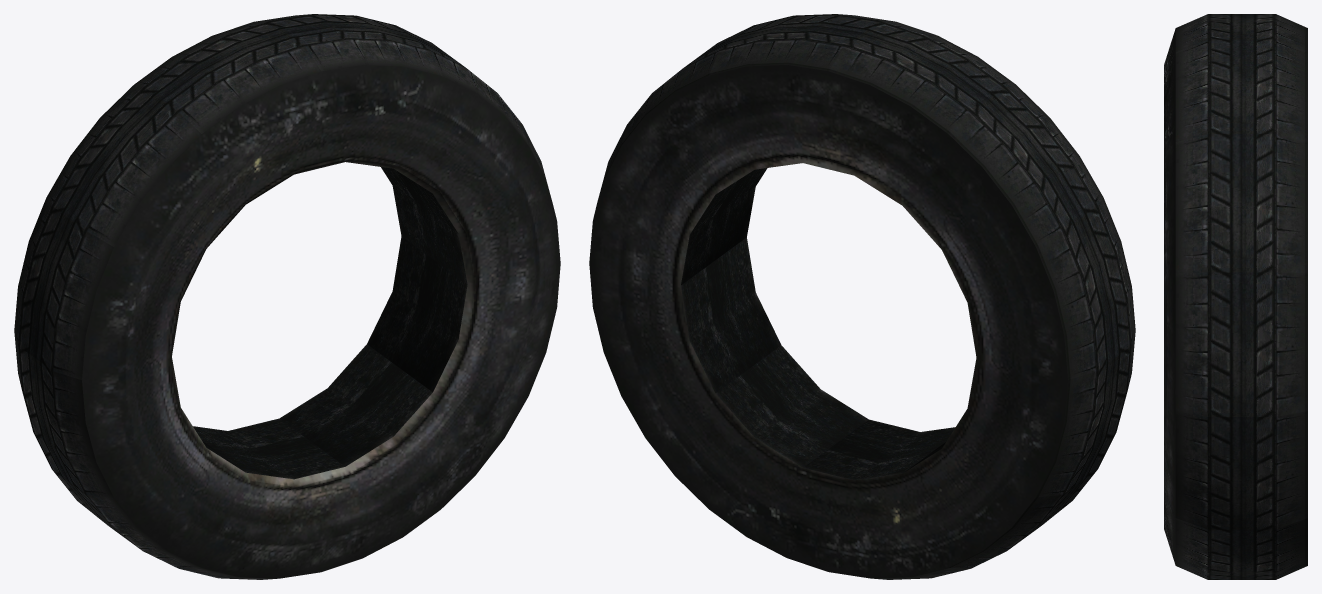
The model's file is Roue6.obj.
The picture shows the model from 3 angles, left to right: view 1: azimuth 30°, elevation 25°; view 2: azimuth 150°, elevation 25°; view 3: azimuth 270°, elevation 25°; orthographic projection. The views are drawn at different scales.
Parts seen in each view (by area): view 1: Roue6; view 2: Roue6; view 3: Roue6.
Part boxes in pixels (x1,y1,x2,y2): Roue6: (14, 14, 560, 579); Roue6: (589, 14, 1135, 579); Roue6: (1164, 14, 1307, 579).
Bounding box in the file's own units: 2.73 × 2.73 × 0.6898.
1 material, 1 textured.
